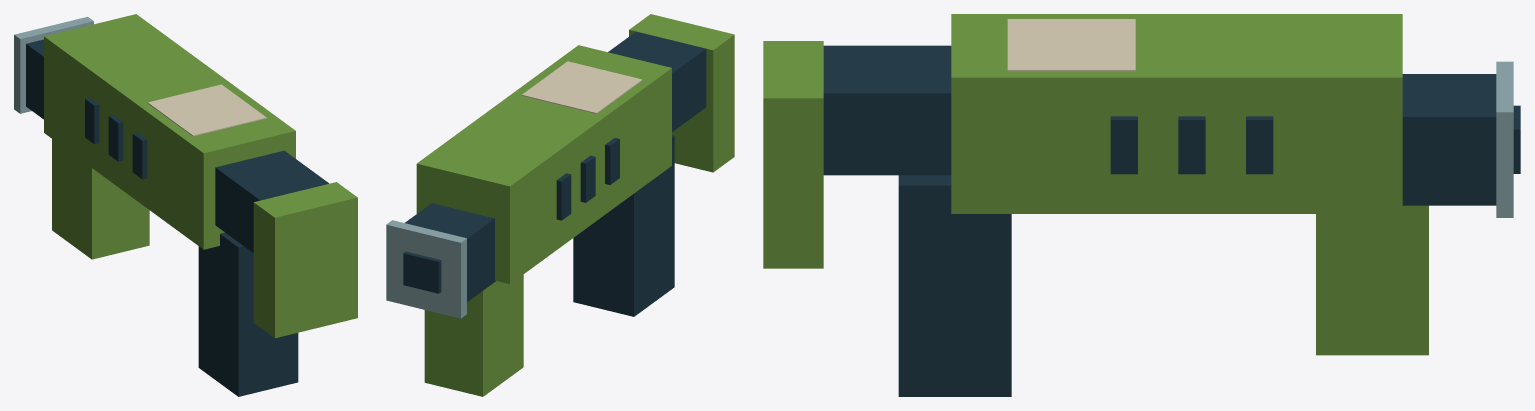
The model's file is smg.gltf.
3 renders of one model, left to right at view 1: azimuth 30°, elevation 25°; view 2: azimuth 150°, elevation 25°; view 3: azimuth 270°, elevation 25°, orthographic. The views are drawn at different scales.
Visible parts, largest first — view 1: smg; view 2: smg; view 3: smg.
Part boxes in pixels (x1,y1,x2,y2): smg: (14, 14, 357, 396); smg: (386, 14, 734, 396); smg: (763, 14, 1520, 396).
Size of the model in its own units: 0.222 by 0.487 by 1.01.
